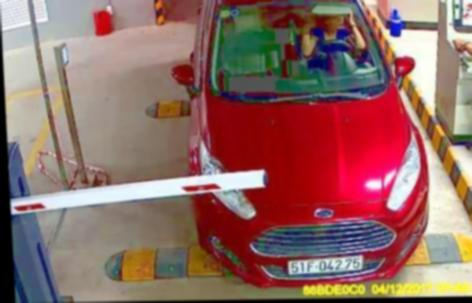License_Plate: (286, 257, 365, 277)
